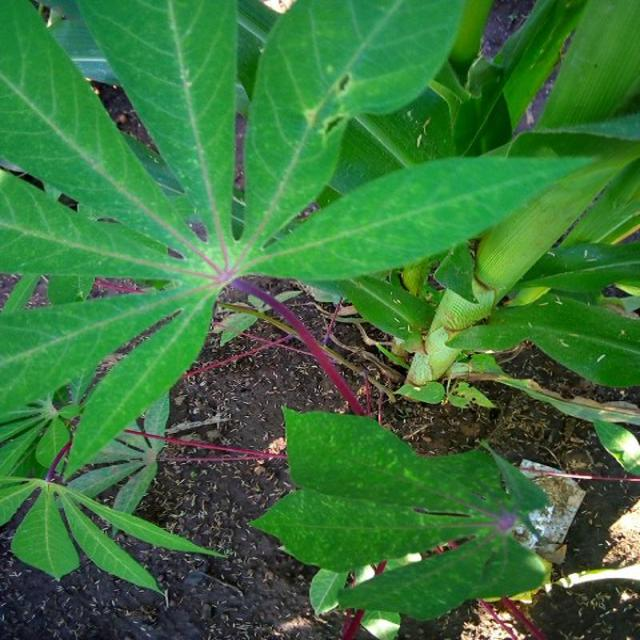cassava leaf: (1, 0, 637, 598), (247, 402, 553, 623)
